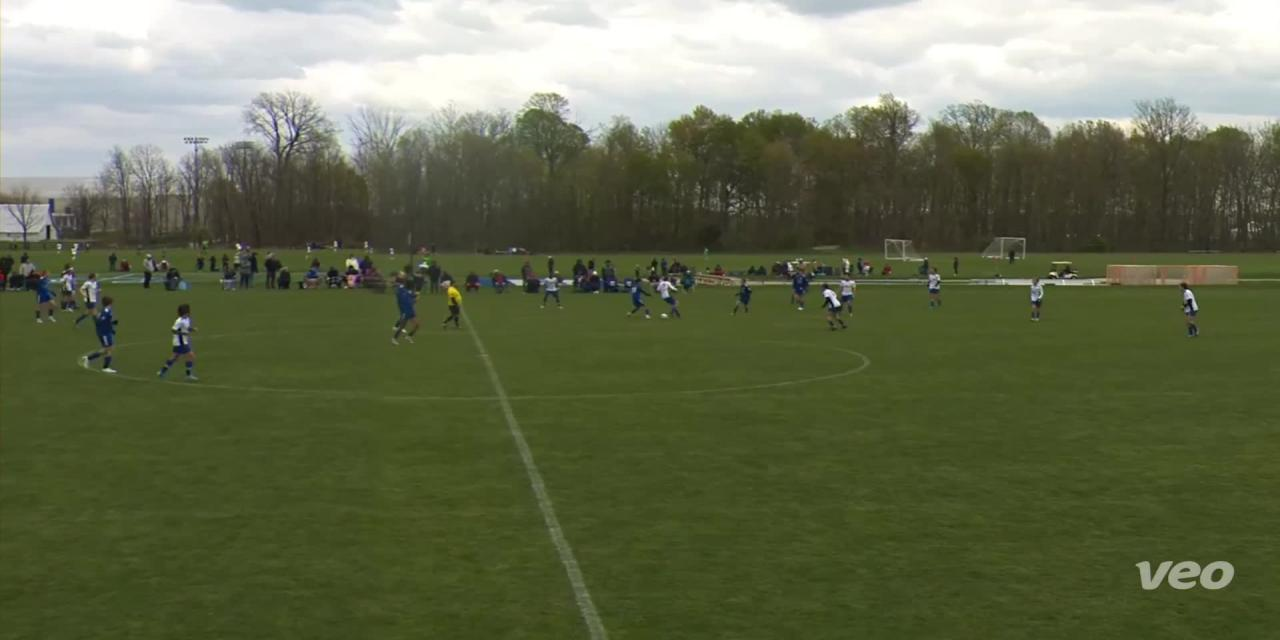sports ball: (656, 308, 671, 324)
